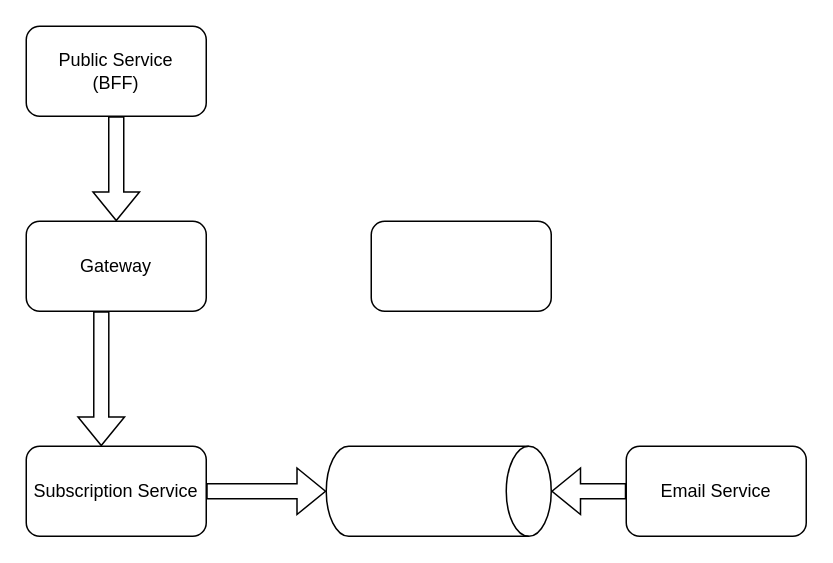
Image size: 833x563. Some labels were removed from this diagram. The shapes that lost their labels are listed below. From the top down, each one's box as (x1, y1, x2, y2) in pixels, then its label:
(370, 220, 551, 311): Eureka
(325, 445, 551, 536): RabbitMQ
